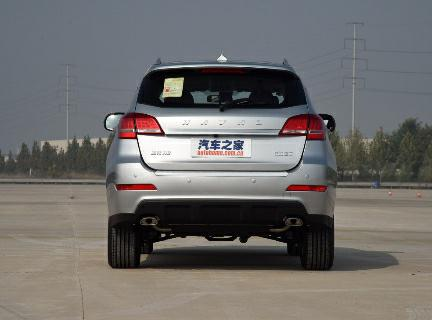哈弗-H2: (97, 54, 345, 276)
